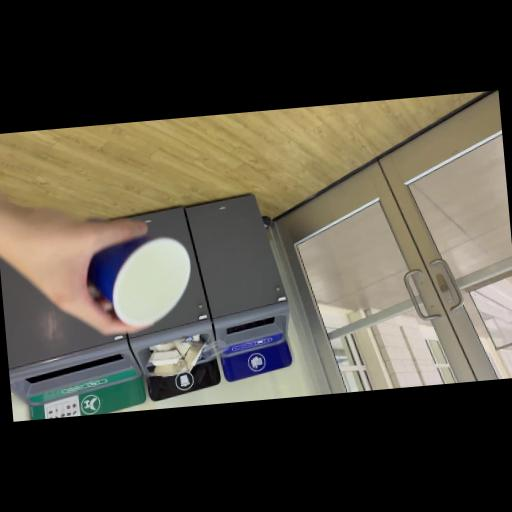lp_paper_cup: (86, 230, 194, 330)
